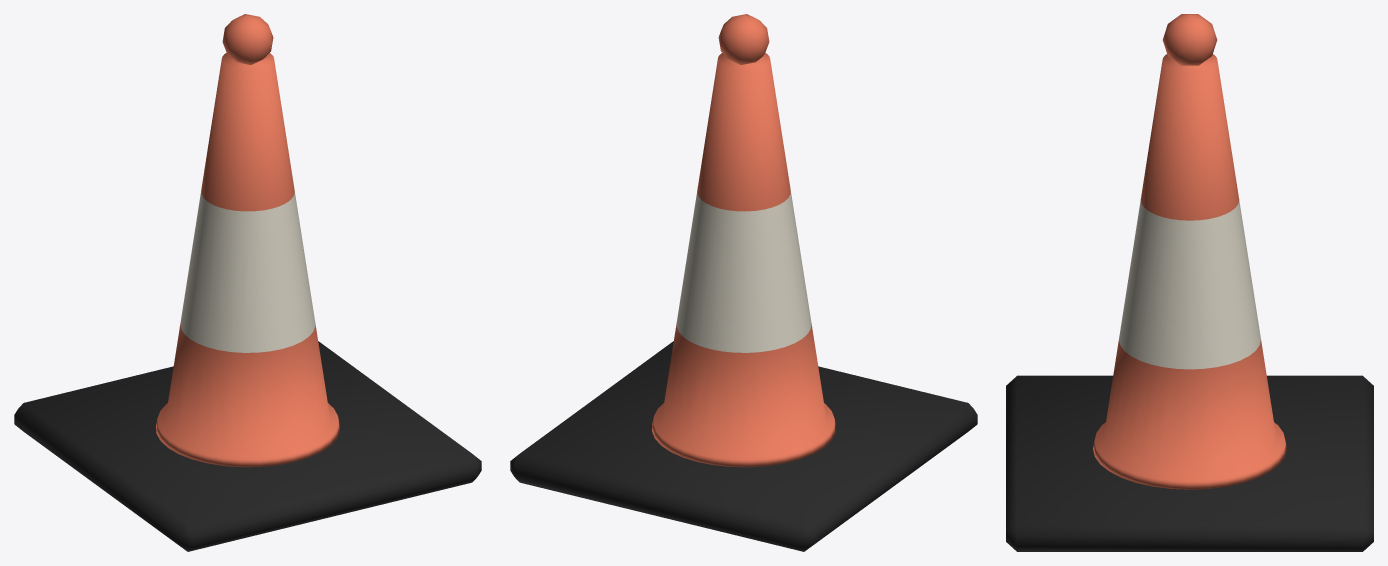
3 renders of one model, left to right at view 1: azimuth 30°, elevation 25°; view 2: azimuth 150°, elevation 25°; view 3: azimuth 270°, elevation 25°, orthographic. The views are drawn at different scales.
Parts seen in each view (by area): view 1: Cone; view 2: Cone; view 3: Cone.
Part boxes in pixels (x1=…): Cone: x1=14, y1=14, x2=481, y2=551; Cone: x1=510, y1=14, x2=977, y2=551; Cone: x1=1006, y1=14, x2=1373, y2=551.
Size of the model in its own units: 159 by 222 by 159.
